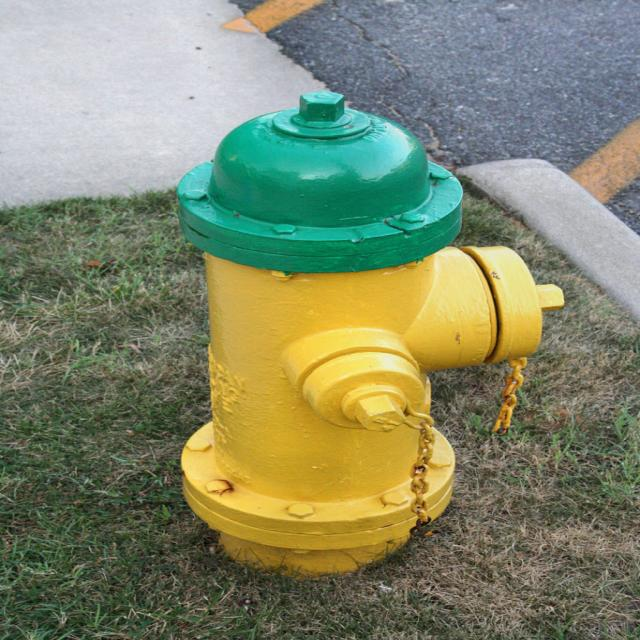fire_hydrant: (186, 92, 567, 580)
